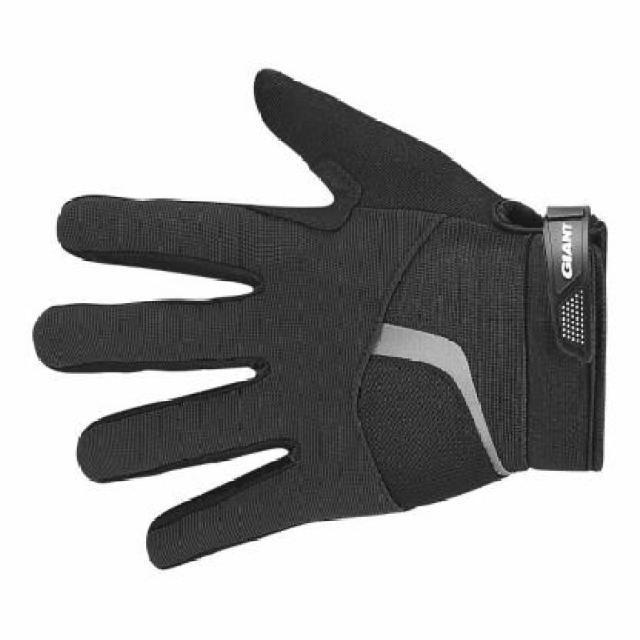gloved_hand: (26, 68, 609, 571)
